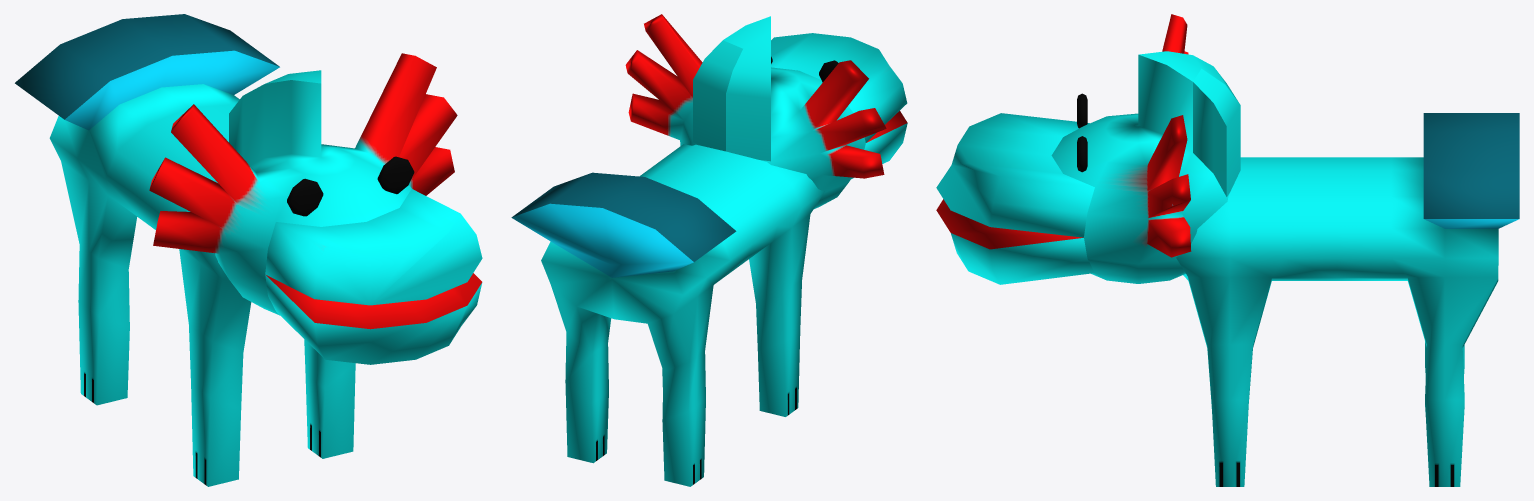
File: MizugorowaB.fbx
The picture shows the model from 3 angles, left to right: view 1: azimuth 30°, elevation 25°; view 2: azimuth 150°, elevation 25°; view 3: azimuth 270°, elevation 25°; orthographic projection. The views are drawn at different scales.
Parts seen in each view (by area): view 1: head, body, eye_R, eye_L; view 2: body, head; view 3: body, head.
Boxes of the visible parts, bbox=[...] form: head: bbox=[149, 53, 482, 364]; body: bbox=[15, 14, 355, 486]; eye_R: bbox=[287, 178, 323, 216]; eye_L: bbox=[377, 156, 414, 194]; body: bbox=[511, 144, 824, 486]; head: bbox=[625, 14, 907, 209]; body: bbox=[1176, 113, 1519, 486]; head: bbox=[936, 14, 1240, 284].
Size of the model in its own units: 63.63 by 81.9 by 109.
Materials: 1 (1 with a texture image).
